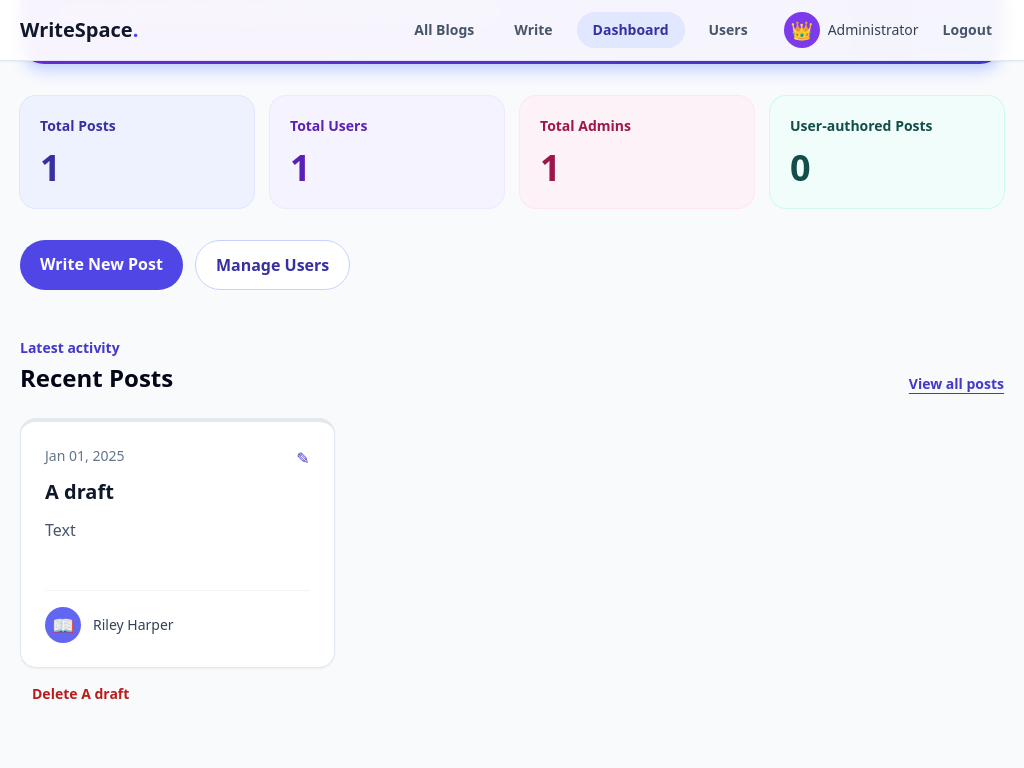
Test: administrator pages › confirms admin post deletion and removes it only after confirmation
(page scrolled)
Click the button "Delete A draft". click: [81, 694]
box: x1=20 y1=676 x2=141 y2=712
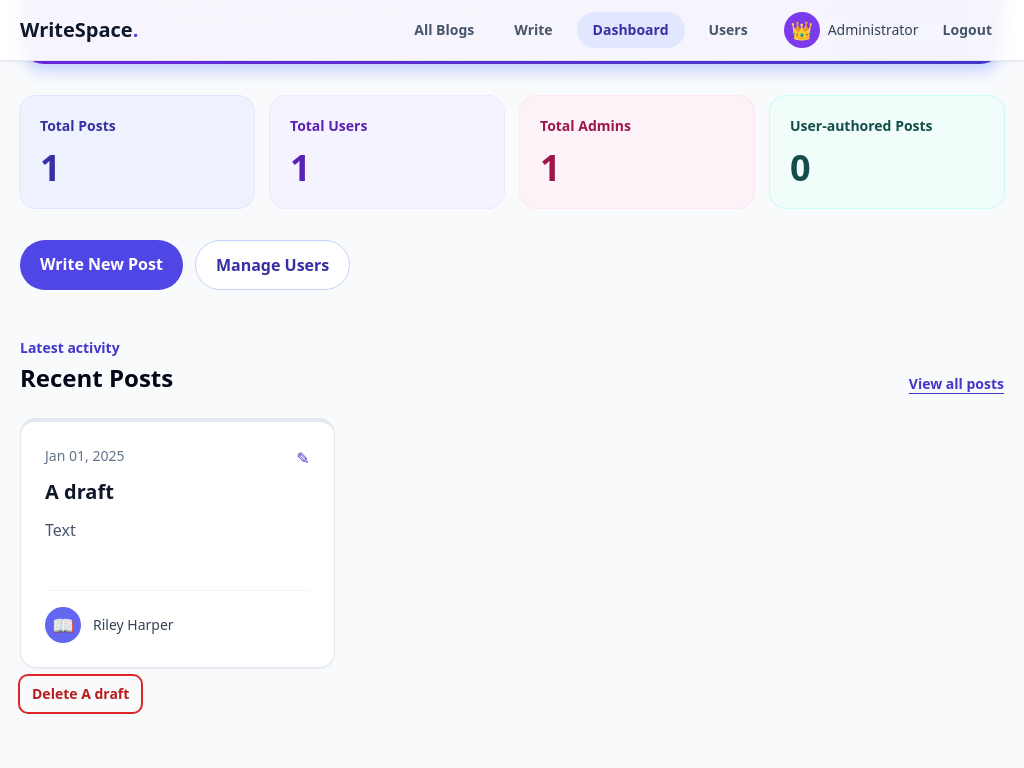
Expected: the heading "A draft" is shown, x1=45 y1=478 x2=114 y2=505
Click the button "Delete A draft". click: [81, 694]
box: x1=20 y1=676 x2=141 y2=712
(page scrolled)
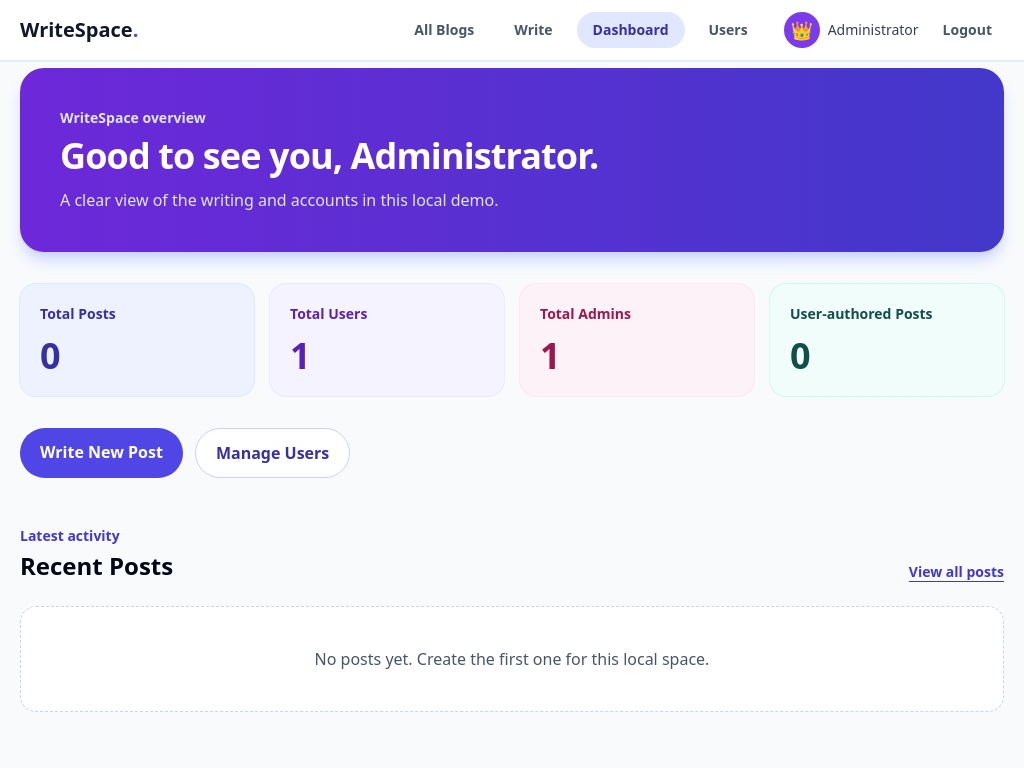
Expected: the text "No posts yet. Create the first one for this local space." is shown, x1=20 y1=606 x2=1004 y2=712
